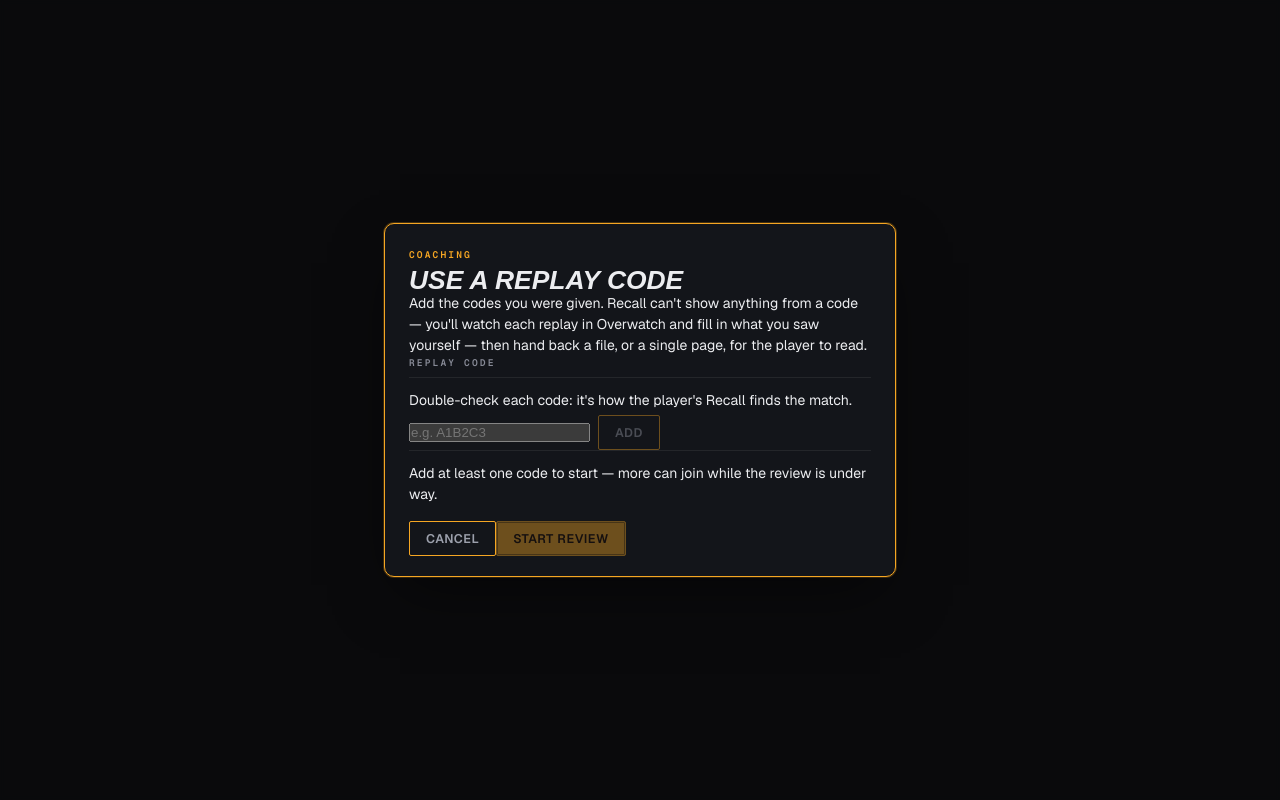
Test: CoachFromCodesModal › echoes each code back in its canonical form
The image size is (1280, 800).
Type "a1b2c3" into the field labelled "Replay code". click: x=500, y=432
box: [409,423,590,442]
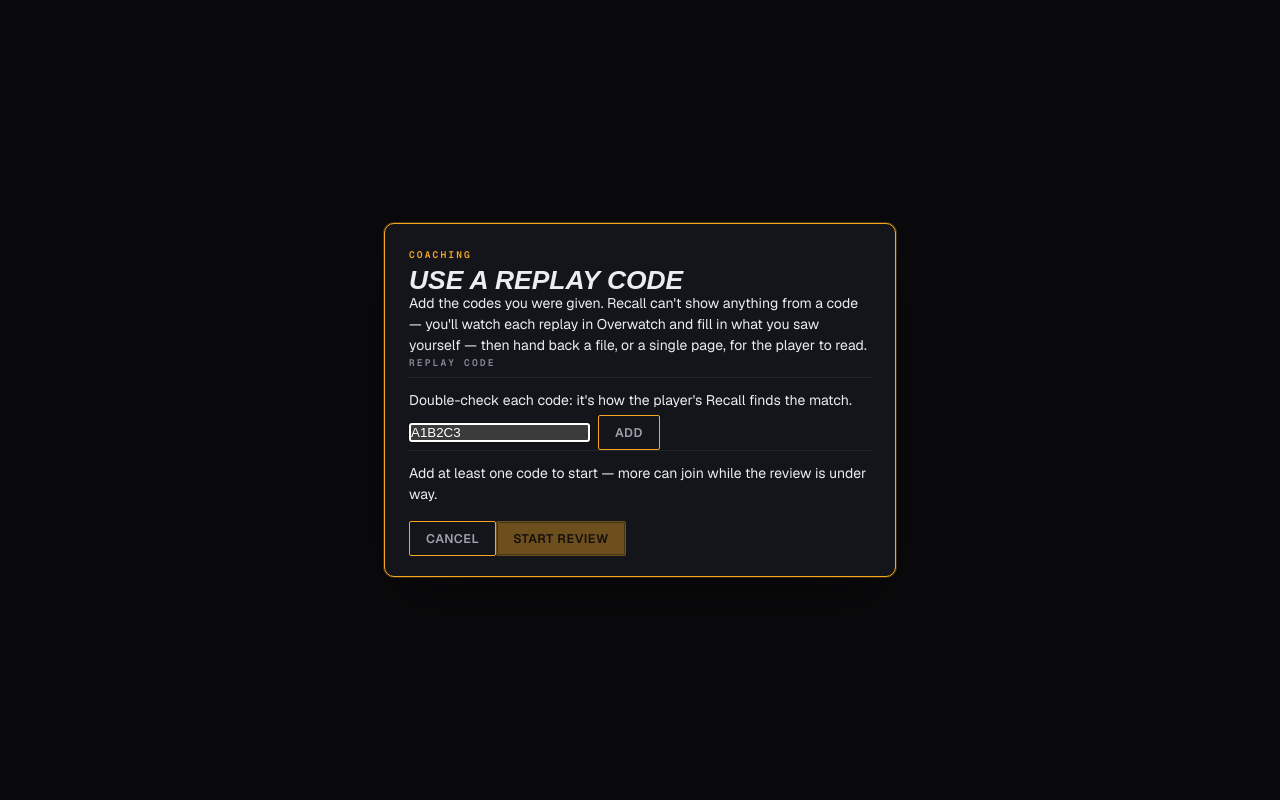
Click the button "Add". click: x=629, y=432
box: [598,415,660,450]
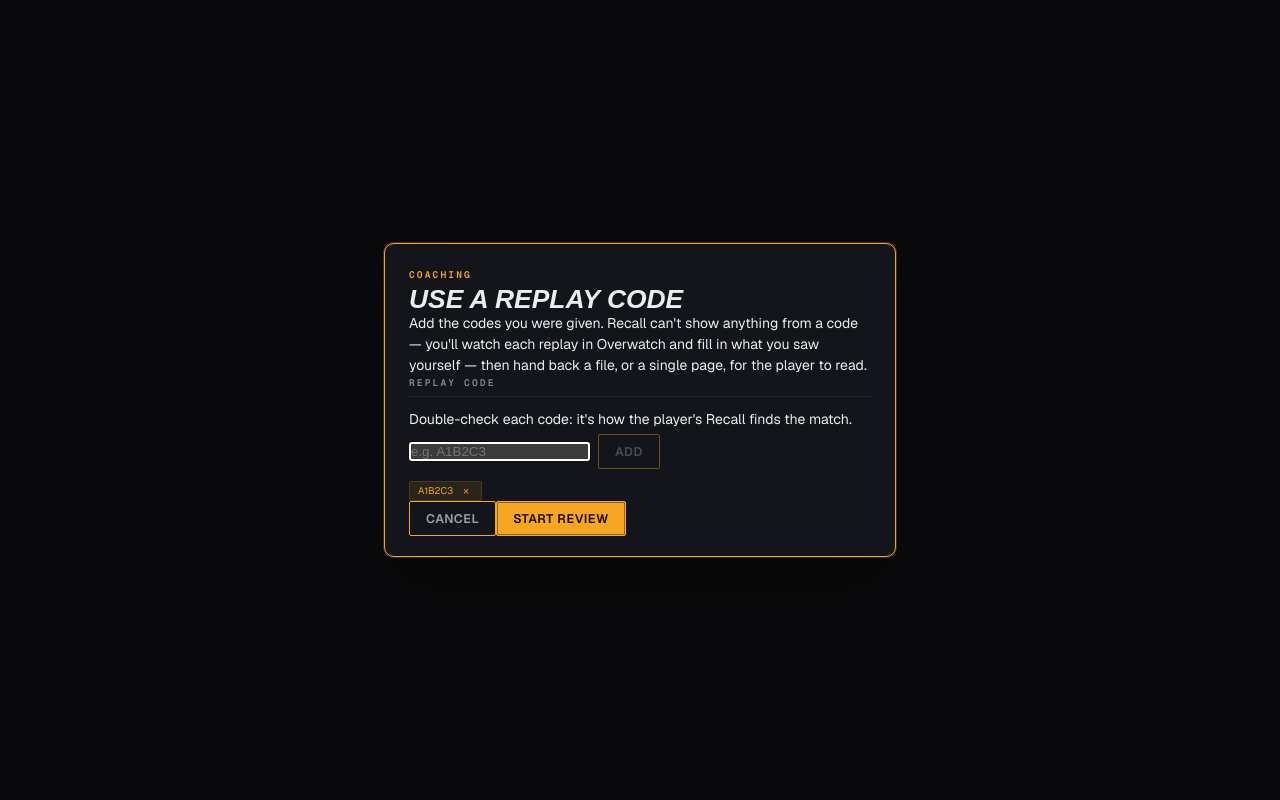
Expected: the text "A1B2C3" is shown, [418,484,453,498]
